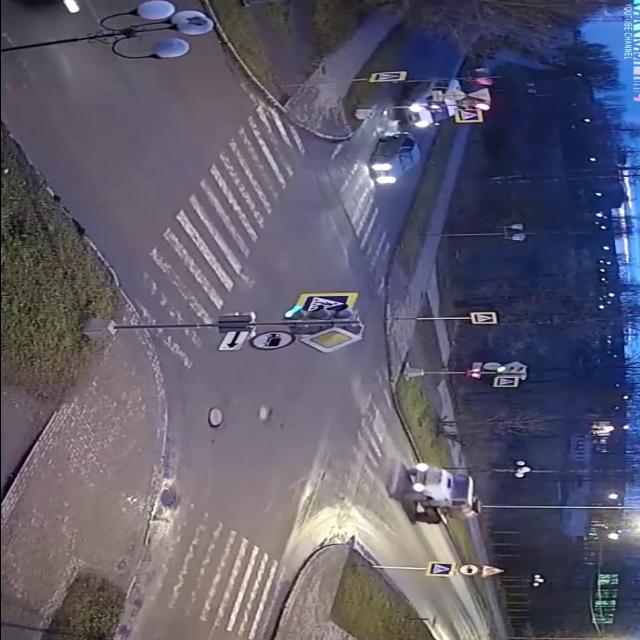non_accident: (356, 74, 478, 190)
